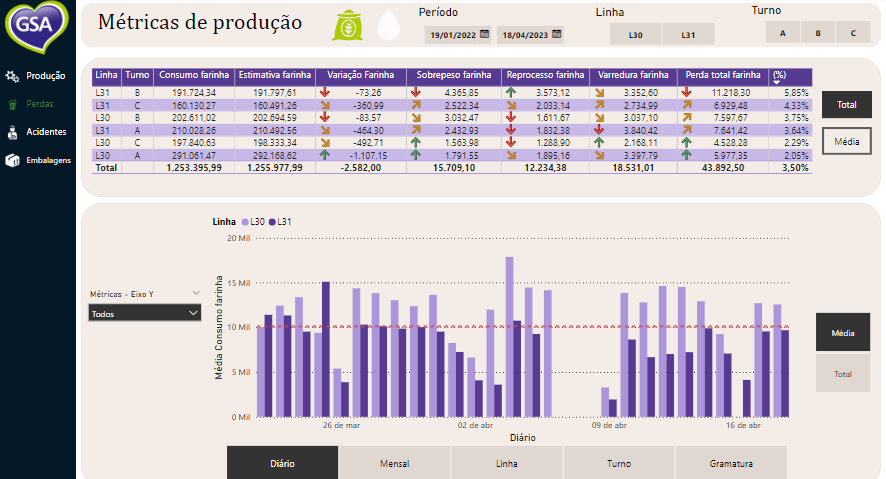

What the dashboard file says about the page in this screenshot:
{"tool":"powerbi","page":{"name":"Produção - Perdas","canvas":[1280,720],"ordinal":1},"visuals":[{"type":"image","title":"Gordura desativado","box":[539.5,11,48,56],"z":0,"group":"g2"},{"type":"shape","box":[120,296,1152,408],"z":0},{"type":"image","title":"farinha ativado","box":[475.5,0,56,80],"z":1000,"group":"g2"},{"type":"shape","box":[120,8,1152,64],"z":3000},{"type":"tableEx","title":"Tabela total farinha","fields":{"Values":["1 - DIM_MASSAS_LINHA.Linha","0 - DIM_TURNO.Turno","_Medidas_SUMX.Consumo farinha","_Medidas_SUMX.Estimativa farinha","_Medidas_SUMX.Variação Farinha","_Medidas_SUMX.Sobrepeso farinha","_Medidas_SUMX.Reprocesso farinha","_Medidas_SUMX.Varredura farinha","_Medidas_SUMX.Perda total farinha","_Medidas_SUMX.Percentual Perda Total Farinha"]},"box":[120,88,1152,200],"z":4000},{"type":"actionButton","title":"Botão média farinha desativado","box":[1186.2,187.6,71.8,40.2],"z":5000},{"type":"actionButton","title":"Botão total farinha desativado","box":[1186.2,135,71.8,39.3],"z":6000},{"type":"actionButton","title":"Botão total farinha ativado","box":[1186.2,135,71.8,39.3],"z":12000},{"type":"clusteredColumnChart","fields":{"Y":["_Medidas_AVERAGEX.Med Consumo farinha"],"Category":["1 - FACT_MASSAS.Data"],"Series":["1 - DIM_MASSAS_LINHA.Linha"]},"box":[304,304,856,344],"z":14000},{"type":"slicer","fields":{"Values":["_Test2.grupo_metrica (grupos)"]},"box":[1152,448,128,128],"z":15000},{"type":"slicer","fields":{"Values":["_Eixo_X_desempenho._Eixo_X"]},"box":[304,640,856,64],"z":16000},{"type":"slicer","fields":{"Values":["_Test2._Test2"]},"box":[120,416,184,64],"z":17000},{"type":"shape","box":[0,0,112,720],"z":18000},{"type":"image","box":[0,0,112,88],"z":19000},{"type":"group","id":"g1","title":"Grupo 5","box":[475,0,112,80],"z":20000},{"type":"group","id":"g2","title":"Grupo 6","box":[475.5,0,112,80],"z":21000},{"type":"slicer","title":"Linha","fields":{"Values":["1 - DIM_MASSAS_LINHA.Linha"]},"box":[856,11,200,64],"z":22000},{"type":"slicer","title":"Turno","fields":{"Values":["0 - DIM_TURNO.Turno"]},"box":[1080,8,200,64],"z":23000},{"type":"textbox","box":[138.9,11.1,330,61.1],"z":24000},{"type":"textbox","box":[36,140,75,30],"z":25000},{"type":"image","box":[6,180,30,30],"z":26000},{"type":"textbox","box":[36,180,76,30],"z":27000},{"type":"image","box":[6,220,30,30],"z":28000},{"type":"textbox","box":[36.1,220,83.9,30],"z":29000},{"type":"image","box":[6,100,30,30],"z":30000},{"type":"textbox","box":[36,100,75,30],"z":31000},{"type":"slicer","title":"Período","fields":{"Values":["dCalendario.Column1"]},"box":[600,11,256,64],"z":32000},{"type":"actionButton","box":[5.7,178.1,106.3,32.6],"z":34000},{"type":"actionButton","box":[4.8,218.3,106.3,32.6],"z":35000},{"type":"image","box":[6,140,30,30],"z":36000},{"type":"actionButton","box":[4.8,98.6,106.3,32.6],"z":37000}]}

Visuals, with their boxes on the page's 1280x720 design canvas (x1, y1, x2, y2). These are canvas units, not pixel positions in the 886x479 screenshot, which may show the page scaled, cropped or inside an application window:
"Gordura desativado" image: Rect(540, 11, 588, 67)
shape: Rect(120, 296, 1272, 704)
"farinha ativado" image: Rect(476, 0, 532, 80)
shape: Rect(120, 8, 1272, 72)
"Tabela total farinha" tableEx: Rect(120, 88, 1272, 288)
"Botão média farinha desativado" actionButton: Rect(1186, 188, 1258, 228)
"Botão total farinha desativado" actionButton: Rect(1186, 135, 1258, 174)
"Botão total farinha ativado" actionButton: Rect(1186, 135, 1258, 174)
clusteredColumnChart - _Medidas_AVERAGEX.Med Consumo farinha x 1 - FACT_MASSAS.Data: Rect(304, 304, 1160, 648)
slicer - _Test2.grupo_metrica (grupos): Rect(1152, 448, 1280, 576)
slicer - _Eixo_X_desempenho._Eixo_X: Rect(304, 640, 1160, 704)
slicer - _Test2._Test2: Rect(120, 416, 304, 480)
shape: Rect(0, 0, 112, 720)
image: Rect(0, 0, 112, 88)
"Grupo 5" group: Rect(475, 0, 587, 80)
"Grupo 6" group: Rect(476, 0, 588, 80)
"Linha" slicer: Rect(856, 11, 1056, 75)
"Turno" slicer: Rect(1080, 8, 1280, 72)
textbox: Rect(139, 11, 469, 72)
textbox: Rect(36, 140, 111, 170)
image: Rect(6, 180, 36, 210)
textbox: Rect(36, 180, 112, 210)
image: Rect(6, 220, 36, 250)
textbox: Rect(36, 220, 120, 250)
image: Rect(6, 100, 36, 130)
textbox: Rect(36, 100, 111, 130)
"Período" slicer: Rect(600, 11, 856, 75)
actionButton: Rect(6, 178, 112, 211)
actionButton: Rect(5, 218, 111, 251)
image: Rect(6, 140, 36, 170)
actionButton: Rect(5, 99, 111, 131)
